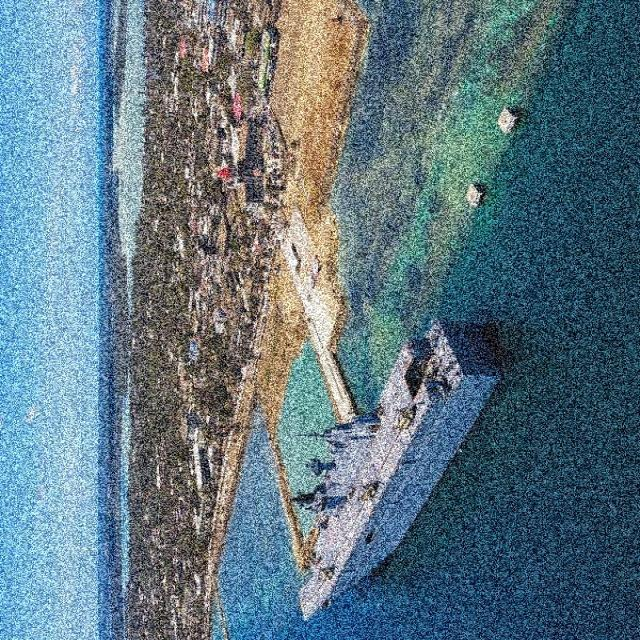ship2: (295, 316, 508, 622)
